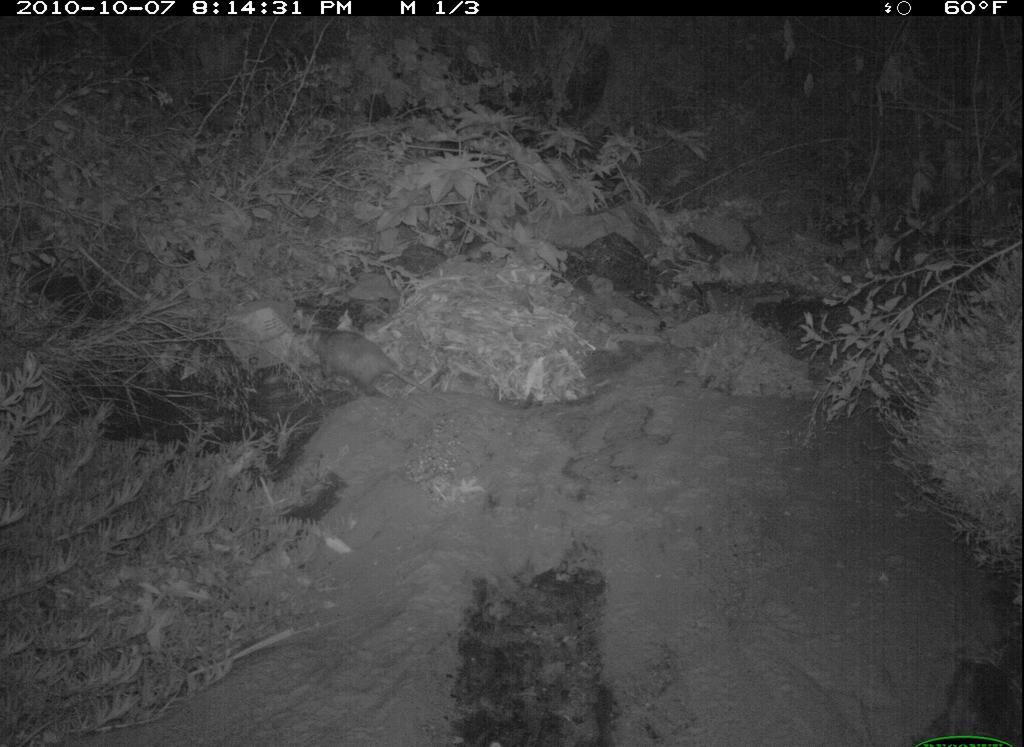opossum: (278, 306, 443, 409)
